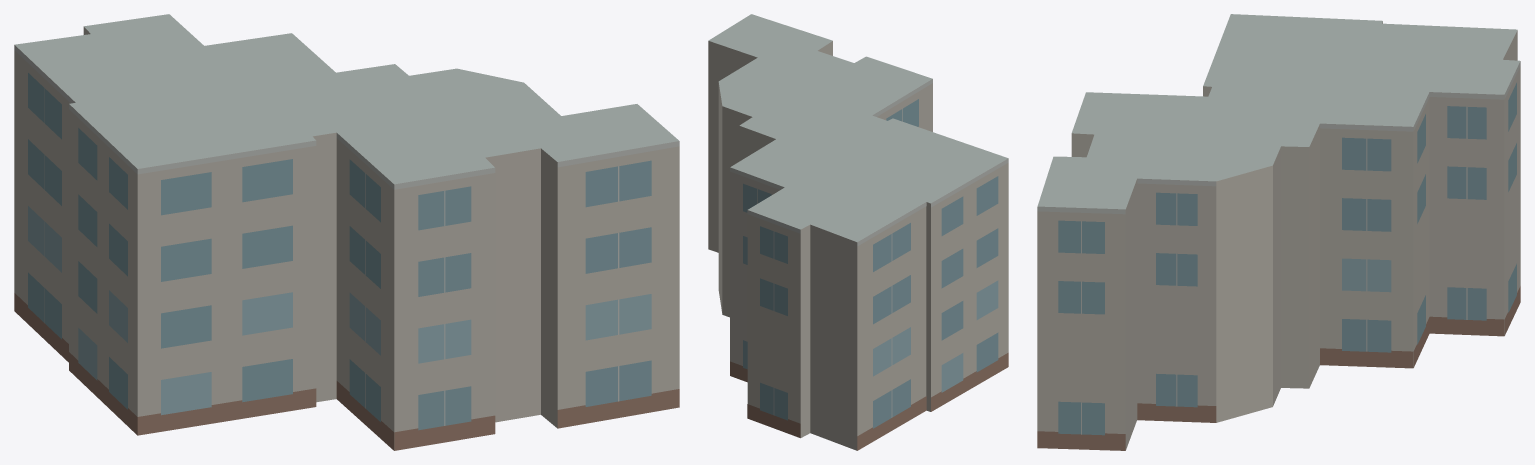
Rendered from survey-upis-32989940.glb.
3 renders of one model, left to right at view 1: azimuth 30°, elevation 25°; view 2: azimuth 150°, elevation 25°; view 3: azimuth 270°, elevation 25°, orthographic. The views are drawn at different scales.
Parts seen in each view (by area): view 1: survey-upis-32989940.tmp; view 2: survey-upis-32989940.tmp; view 3: survey-upis-32989940.tmp.
Boxes of the visible parts, box(x1,y1,x2,y2) form: survey-upis-32989940.tmp: box(14, 14, 679, 450); survey-upis-32989940.tmp: box(708, 14, 1008, 450); survey-upis-32989940.tmp: box(1037, 14, 1520, 450).
Bounding box in the file's own units: 20.97 × 12.08 × 21.91.
